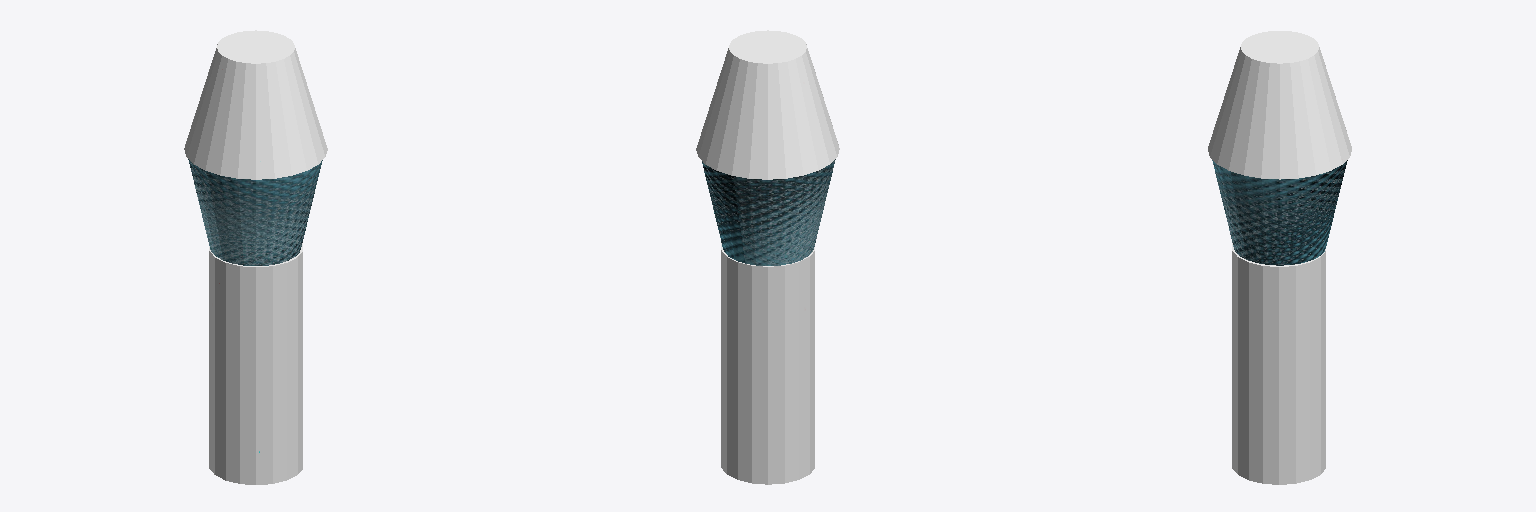
3 views of the same model, side by side, from view 1: azimuth 30°, elevation 25°; view 2: azimuth 150°, elevation 25°; view 3: azimuth 270°, elevation 25° (orthographic).
Parts seen in each view (by area): view 1: Cylinder01, Cone02, Cone01; view 2: Cylinder01, Cone02, Cone01; view 3: Cylinder01, Cone02, Cone01.
Part boxes in pixels (bbox=[...]): Cylinder01: bbox=[209, 243, 302, 484]; Cone02: bbox=[184, 30, 327, 179]; Cone01: bbox=[188, 159, 322, 265]; Cylinder01: bbox=[721, 243, 814, 484]; Cone02: bbox=[696, 30, 839, 179]; Cone01: bbox=[702, 159, 835, 265]; Cylinder01: bbox=[1232, 243, 1325, 484]; Cone02: bbox=[1208, 31, 1351, 179]; Cone01: bbox=[1212, 160, 1347, 265].
Size of the model in its own units: 58.72 by 189 by 59.33.
2 materials, 2 textured.